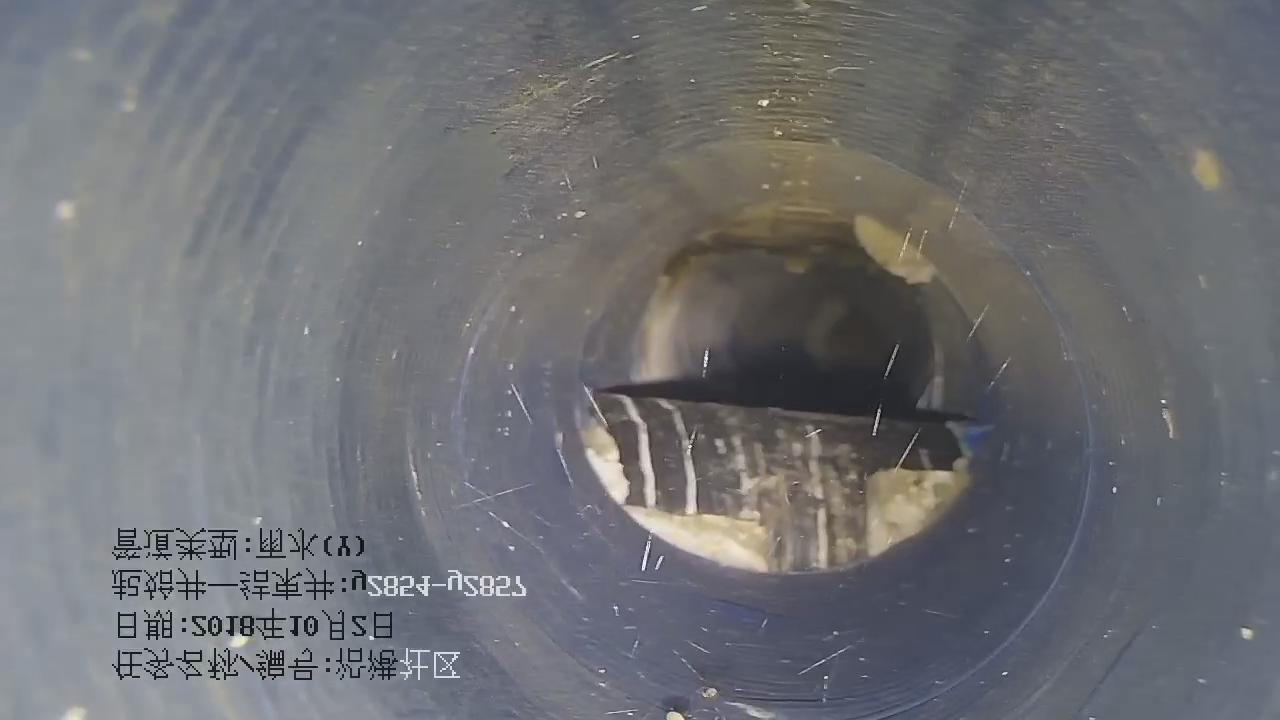YWCR: (582, 382, 983, 574)
